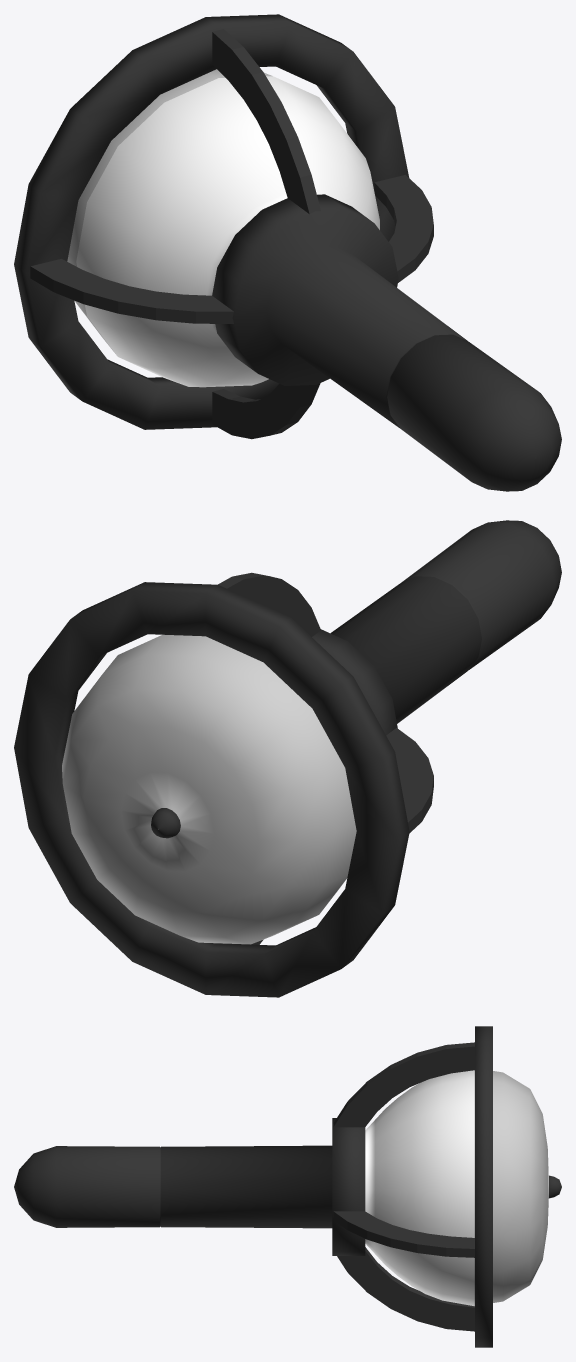
File: Urbi 3.obj
3 views of the same model, one above another, from view 1: azimuth 30°, elevation 25°; view 2: azimuth 150°, elevation 25°; view 3: azimuth 270°, elevation 25° (orthographic). The views are drawn at different scales.
Visible parts, largest first — view 1: Selux_Urbi_3_Lampe_Deteil.002; view 2: Selux_Urbi_3_Lampe_Deteil.002; view 3: Selux_Urbi_3_Lampe_Deteil.002.
Boxes of the visible parts, x1,y1,x2,y2 form: Selux_Urbi_3_Lampe_Deteil.002: (14, 14, 561, 491); Selux_Urbi_3_Lampe_Deteil.002: (14, 520, 561, 997); Selux_Urbi_3_Lampe_Deteil.002: (14, 1026, 561, 1347).
Size of the model in its own units: 0.66 by 0.66 by 1.13.
3 materials, 2 textured.
